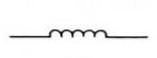inductor: (43, 26, 117, 43)
